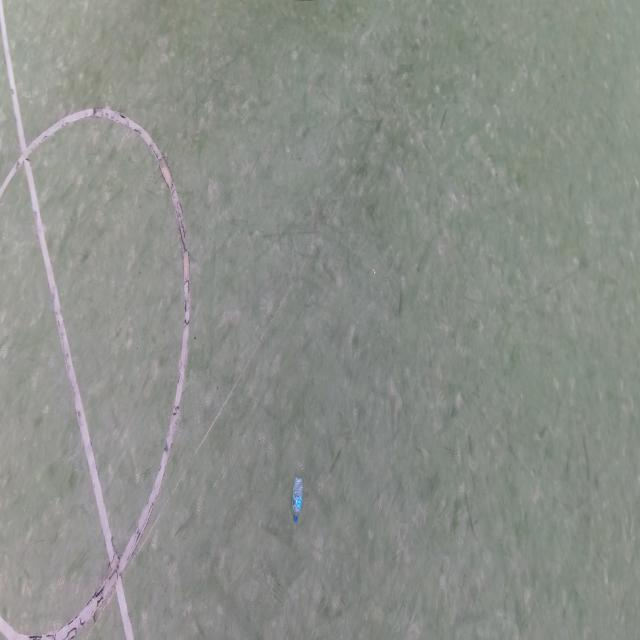rubbish: (292, 476, 303, 522)
